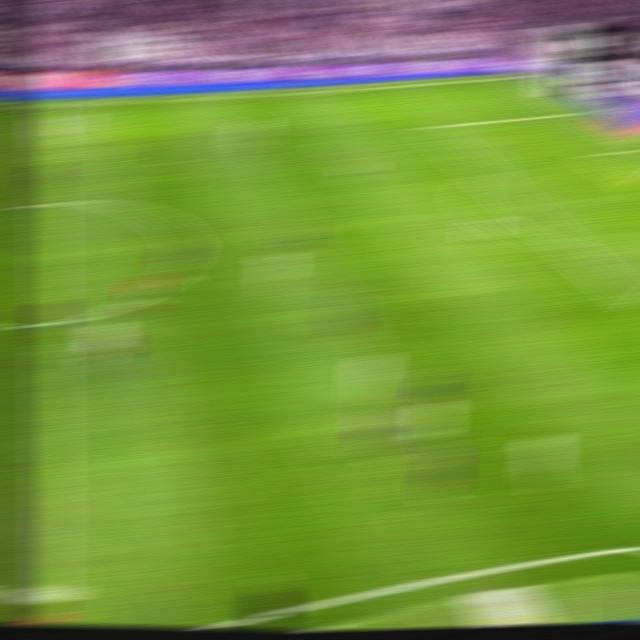bigarea_top_inner: (419, 119, 445, 133)
bigarea_top_outter: (567, 105, 594, 118)
bottom_arc_area_intersection: (554, 236, 583, 254)
corner: (507, 71, 534, 80)
halfcircle_top: (33, 192, 63, 215)
midline_top_intersection: (33, 98, 60, 111)
smallarea_top_inner: (580, 150, 604, 160)
top_arc_area_intersection: (471, 165, 498, 180)
